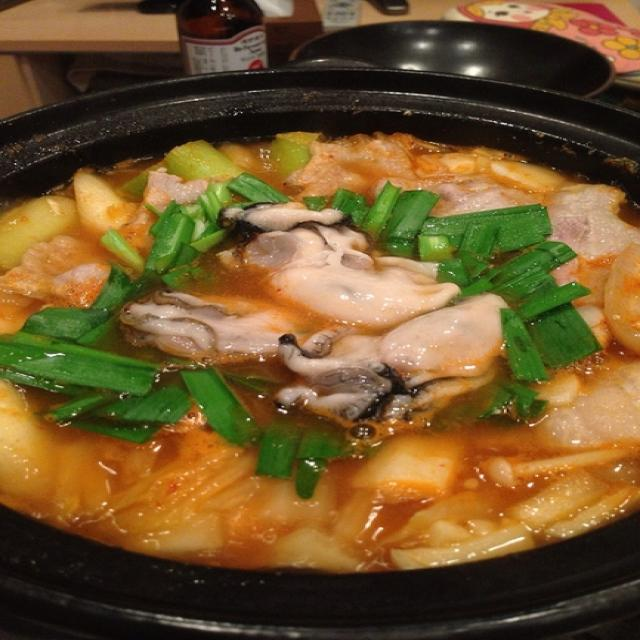汤锅炖物: (8, 48, 620, 618)
